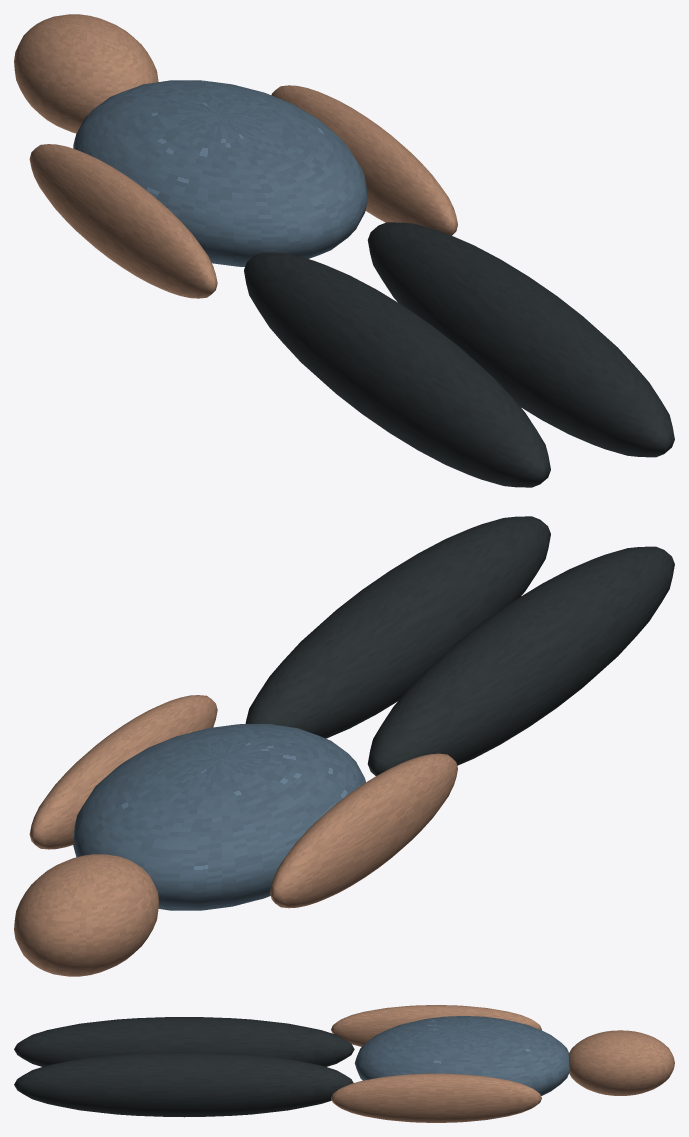
File: manikin.glb
The picture shows the model from 3 angles, top to bottom: view 1: azimuth 30°, elevation 25°; view 2: azimuth 150°, elevation 25°; view 3: azimuth 270°, elevation 25°; orthographic projection. The views are drawn at different scales.
Parts seen in each view (by area): view 1: leg (×2), torso, arm (×2), head; view 2: leg (×2), torso, arm (×2), head; view 3: leg (×2), arm (×2), torso, head.
Boxes of the visible parts, x1=… form: leg (×2): x1=244, y1=222, x2=674, y2=487; torso: x1=73, y1=80, x2=367, y2=266; arm (×2): x1=29, y1=85, x2=457, y2=298; head: x1=14, y1=14, x2=158, y2=133; leg (×2): x1=245, y1=516, x2=674, y2=775; torso: x1=73, y1=724, x2=365, y2=910; arm (×2): x1=29, y1=695, x2=457, y2=908; head: x1=14, y1=854, x2=158, y2=976; leg (×2): x1=14, y1=1017, x2=354, y2=1117; arm (×2): x1=331, y1=1005, x2=541, y2=1122; torso: x1=354, y1=1016, x2=569, y2=1095; head: x1=568, y1=1030, x2=674, y2=1095.
Bounding box in the file's own units: 0.4974 × 0.189 × 1.66.
Materials: 3 (3 with a texture image).
